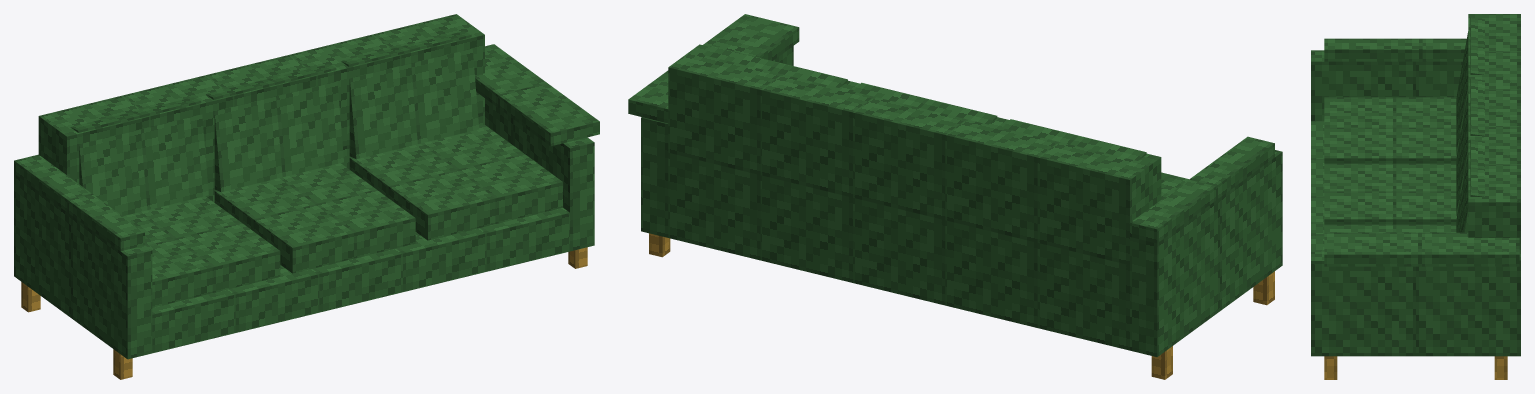
Rendered from loungeCouchWideMansion_1.glb.
The picture shows the model from 3 angles, left to right: view 1: azimuth 30°, elevation 25°; view 2: azimuth 150°, elevation 25°; view 3: azimuth 270°, elevation 25°; orthographic projection. The views are drawn at different scales.
Parts seen in each view (by area): view 1: loungeCouchWideMansion_1; view 2: loungeCouchWideMansion_1; view 3: loungeCouchWideMansion_1.
Boxes of the visible parts, x1,y1,x2,y2 form: loungeCouchWideMansion_1: (14, 14, 599, 379); loungeCouchWideMansion_1: (628, 14, 1282, 379); loungeCouchWideMansion_1: (1311, 14, 1520, 379).
Size of the model in its own units: 2.44 by 0.886 by 1.
Materials: 1 (1 with a texture image).
